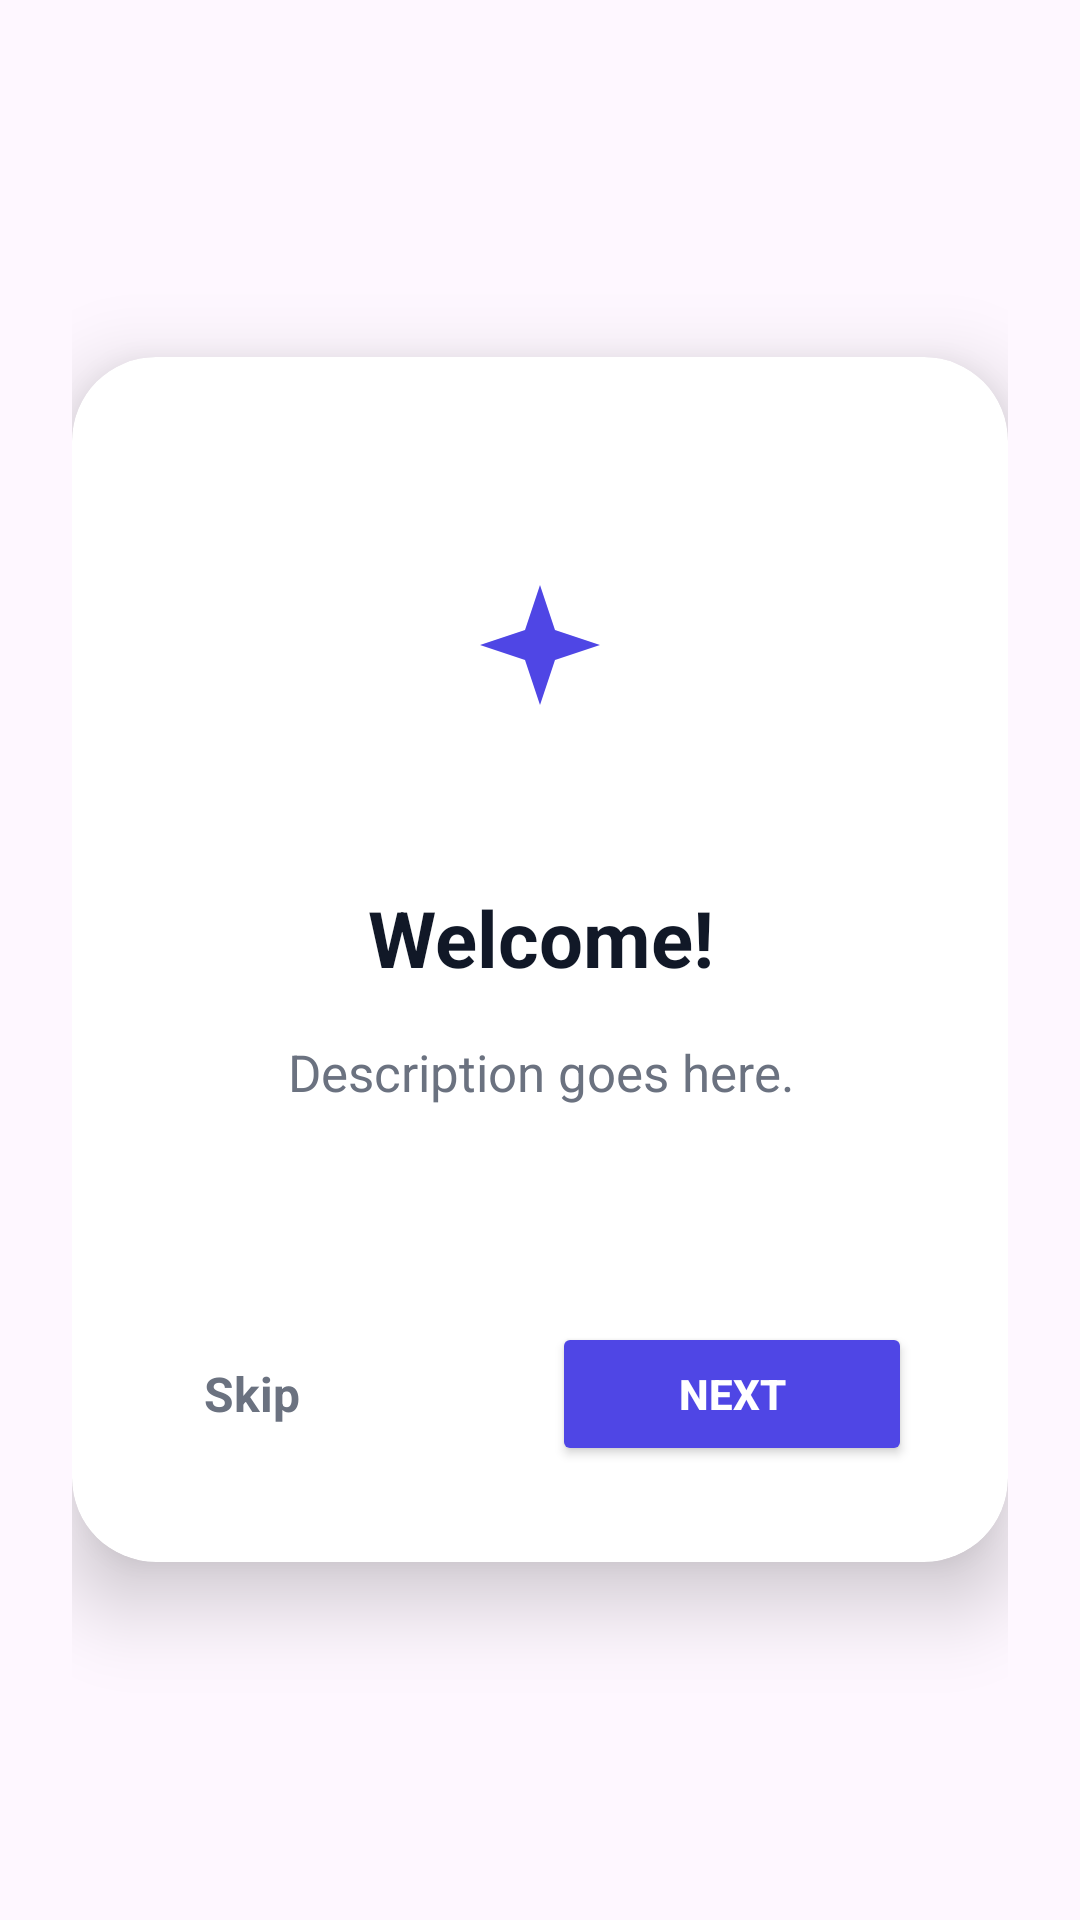

Icons on this 1080 × 1920 Android screen, each with the point to tap as [x,y]:
sparkles: [540,645]
